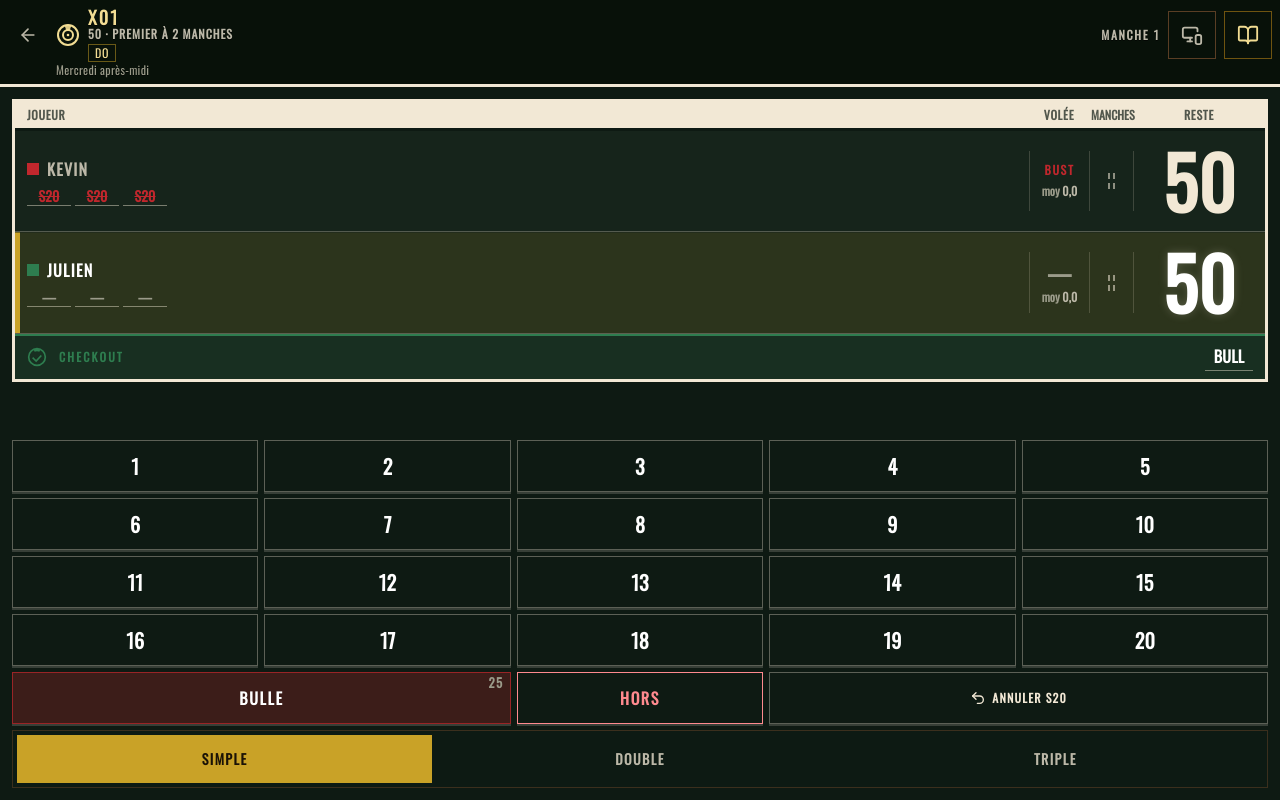
it: La touche Annuler, une fléchette par appui (X01) › un bust défait : la volée se rouvre et n’est plus perdue
Expected: the element named "Score restant de Kevin" reads "50", [1163,127,1236,234]
Step 1. Click the button "Annuler S20" → (1019, 698), box [769,672,1268,724]
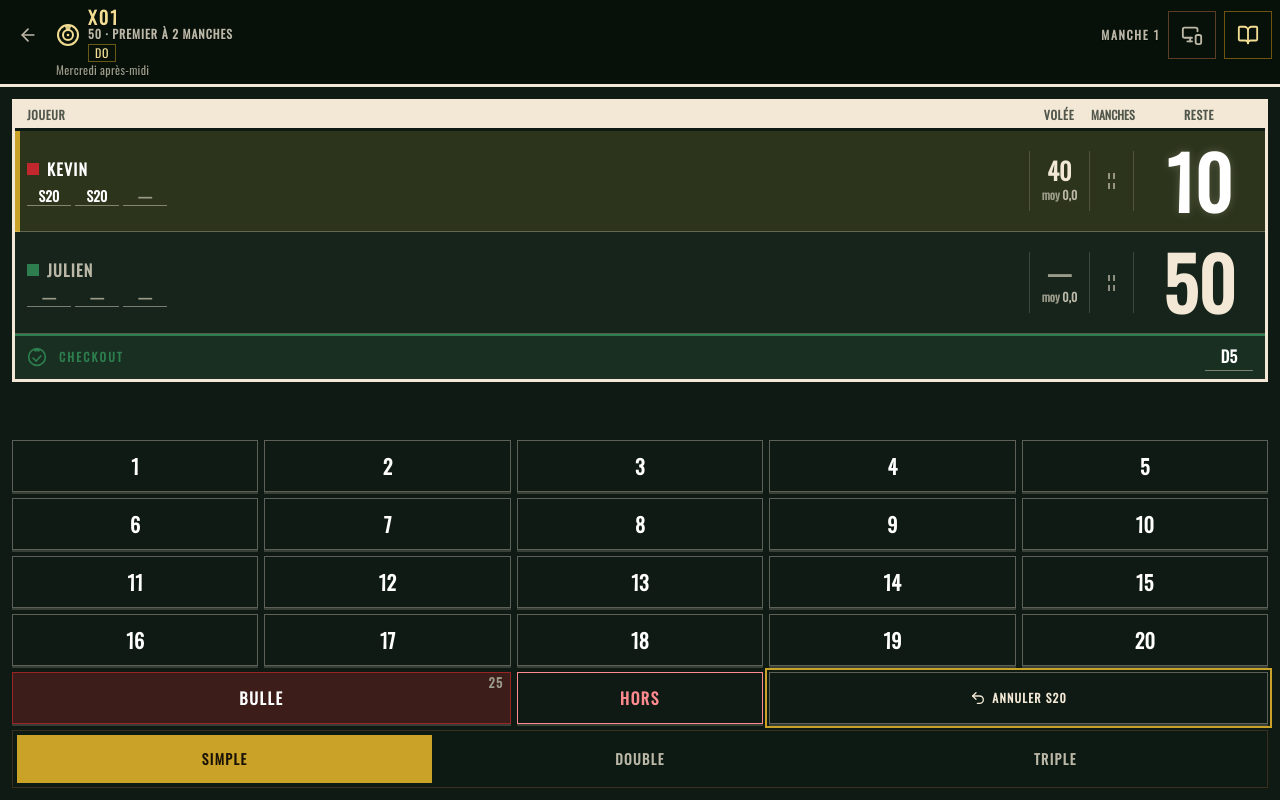
Expected: the element named "Score restant de Kevin" reads "10", [1166,127,1232,234]
